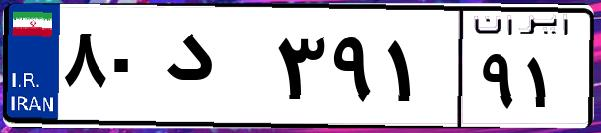0: (110, 28, 158, 98)
1: (385, 28, 445, 110), (525, 38, 570, 115)
3: (270, 28, 330, 110)
8: (57, 26, 110, 100)
9: (330, 28, 385, 110), (475, 38, 525, 113)
د: (158, 20, 270, 120)
